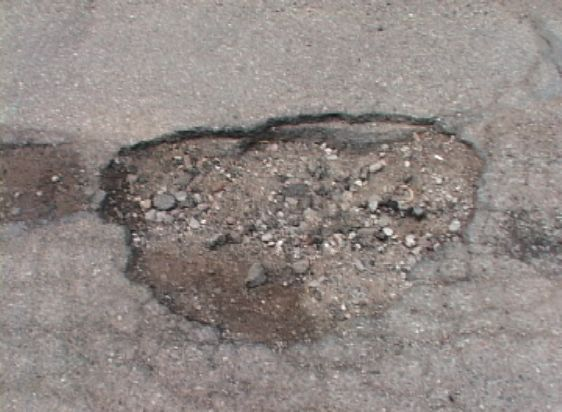pothole: (94, 109, 490, 349)
